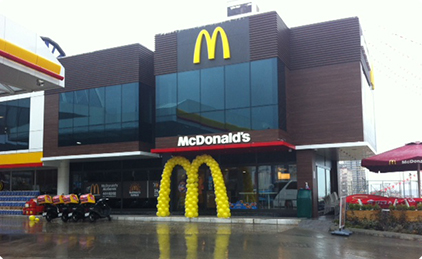mcdonalds: (189, 25, 236, 65)
